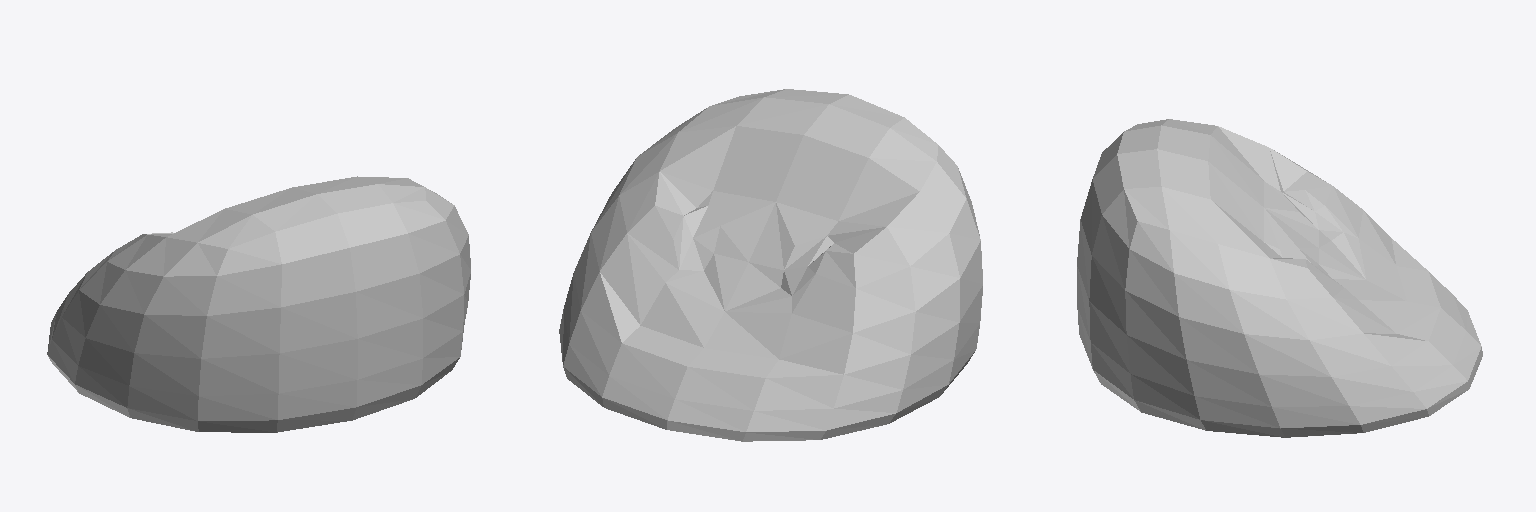
File: brown_bean_bag_sofa.obj
3 renders of one model, left to right at view 1: azimuth 30°, elevation 25°; view 2: azimuth 150°, elevation 25°; view 3: azimuth 270°, elevation 25°, orthographic.
Parts seen in each view (by area): view 1: 立方体; view 2: 立方体; view 3: 立方体.
Part boxes in pixels (x1,y1,x2,y2): 立方体: (47, 176, 470, 432); 立方体: (559, 89, 982, 441); 立方体: (1077, 119, 1482, 437).
Size of the model in its own units: 1.83 by 1.03 by 1.77.